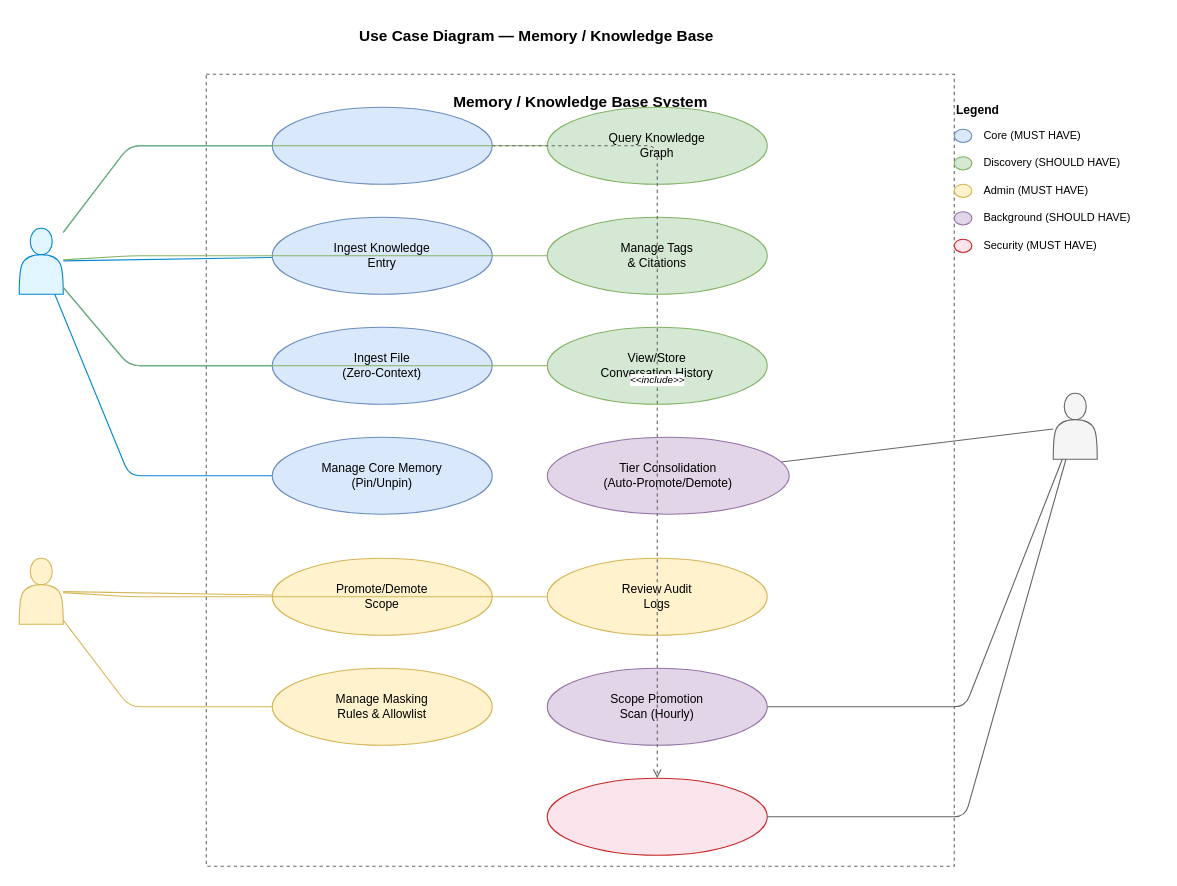
The diagram is 1177 pixels wide and 886 high, and some of its shapes have lost their labels. The box of each missing label's shape, as (x1, y1, x2, y2) in pixels:
Admin: (18, 557, 63, 624)
AI Agent: (18, 227, 63, 294)
Apply Data Masking (PII/Credentials): (546, 777, 767, 855)
Hybrid Search (BM25+Vector+Graph): (271, 106, 492, 184)
System (Background): (1052, 392, 1097, 459)
